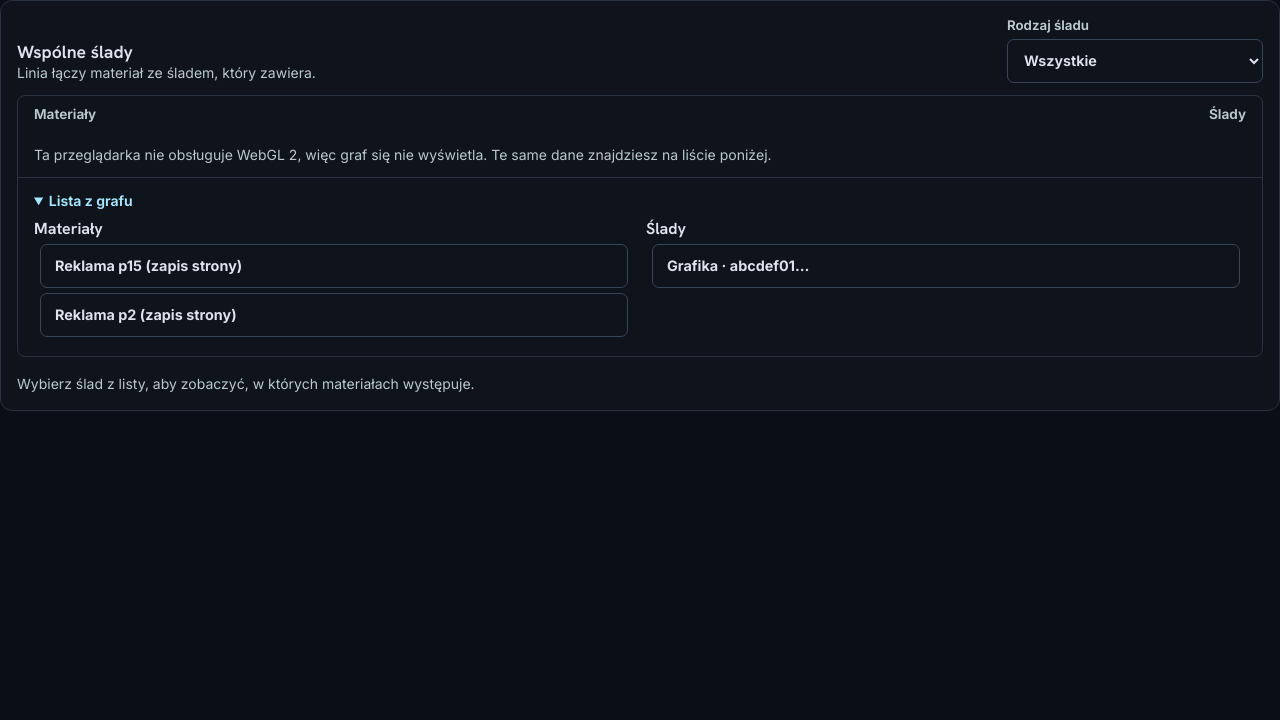
wspólne ślady › bez podglądu wyjaśnia brak i nie pokazuje obrazu
Click the button "Grafika · abcdef01…" at (693,266), box [652,244,1240,288]
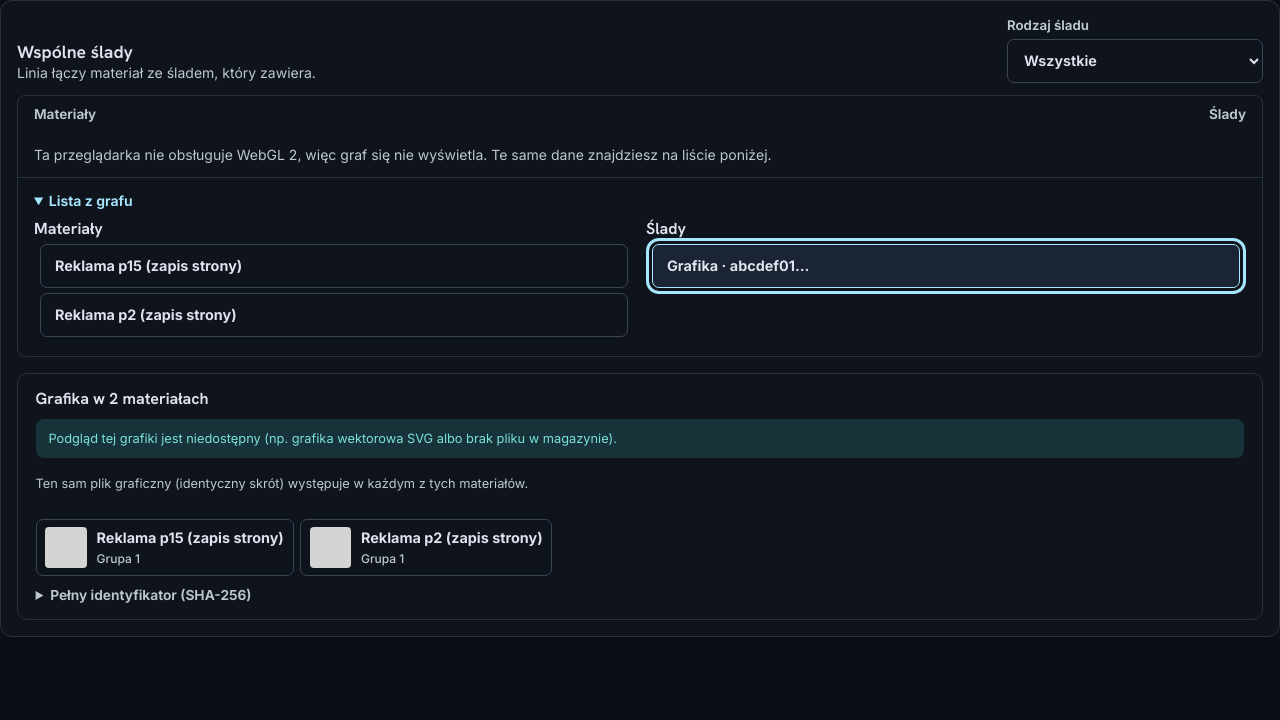
Check: the text "Podgląd tej grafiki jest niedostępny" is shown, box [48,431,617,446]
